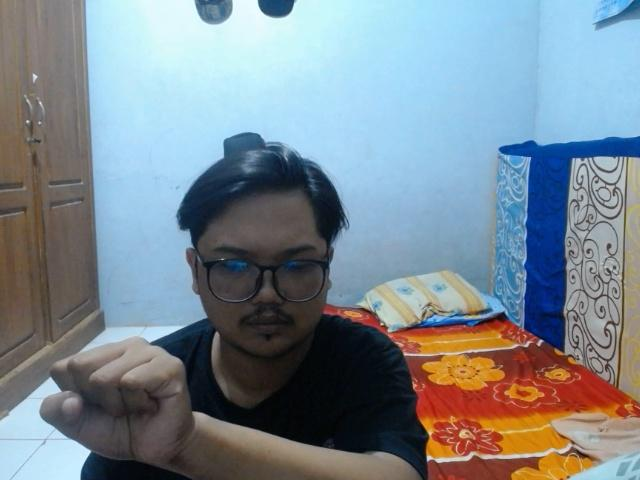Grab: (34, 332, 203, 473)
